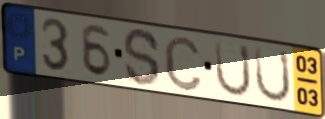3: (40, 17, 73, 74)
6: (80, 23, 113, 79)
C: (162, 33, 205, 93)
S: (122, 26, 162, 88)
U: (253, 44, 293, 105), (214, 39, 254, 99)
